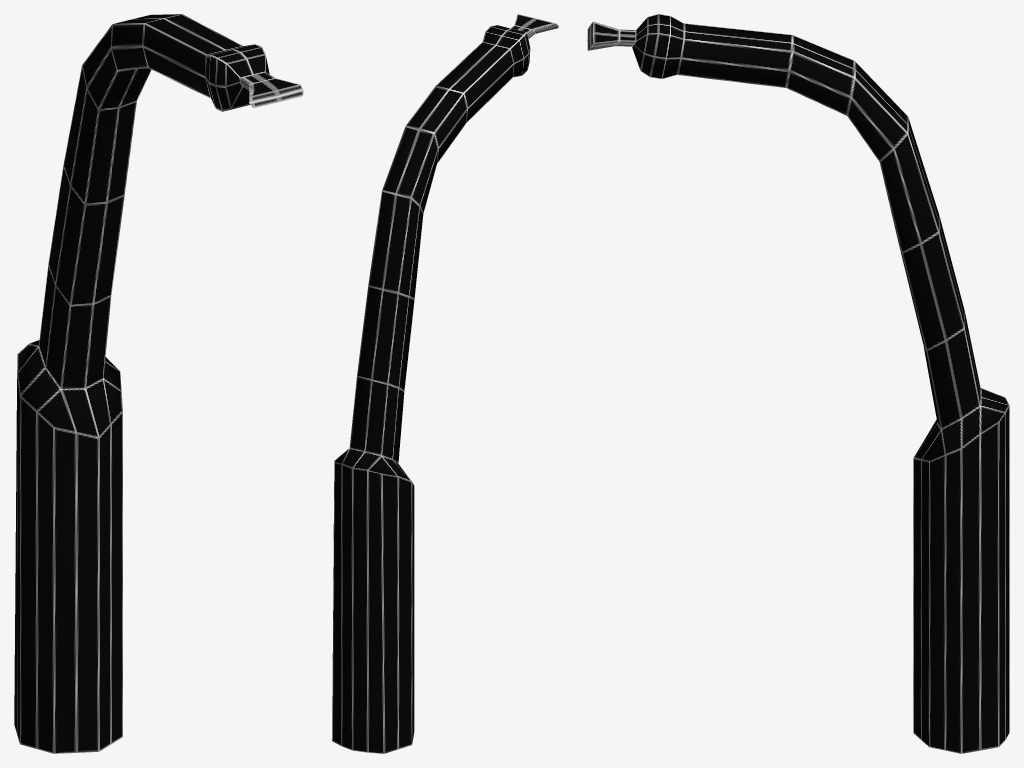
File: charging-post.fbx
3 renders of one model, left to right at view 1: azimuth 30°, elevation 25°; view 2: azimuth 150°, elevation 25°; view 3: azimuth 270°, elevation 25°, orthographic. The views are drawn at different scales.
Visible parts, largest first — view 1: charging_post; view 2: charging_post; view 3: charging_post.
Boxes of the visible parts, x1,y1,x2,y2 form: charging_post: (14,14,303,753); charging_post: (332,14,558,753); charging_post: (587,14,1009,753).
Bounding box in the file's own units: 0.4171 × 3.21 × 1.73.
